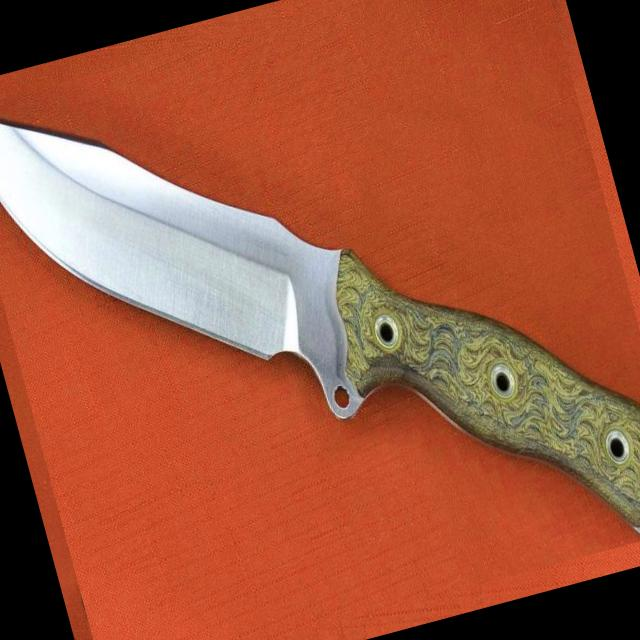Knife: (0, 123, 640, 532)
